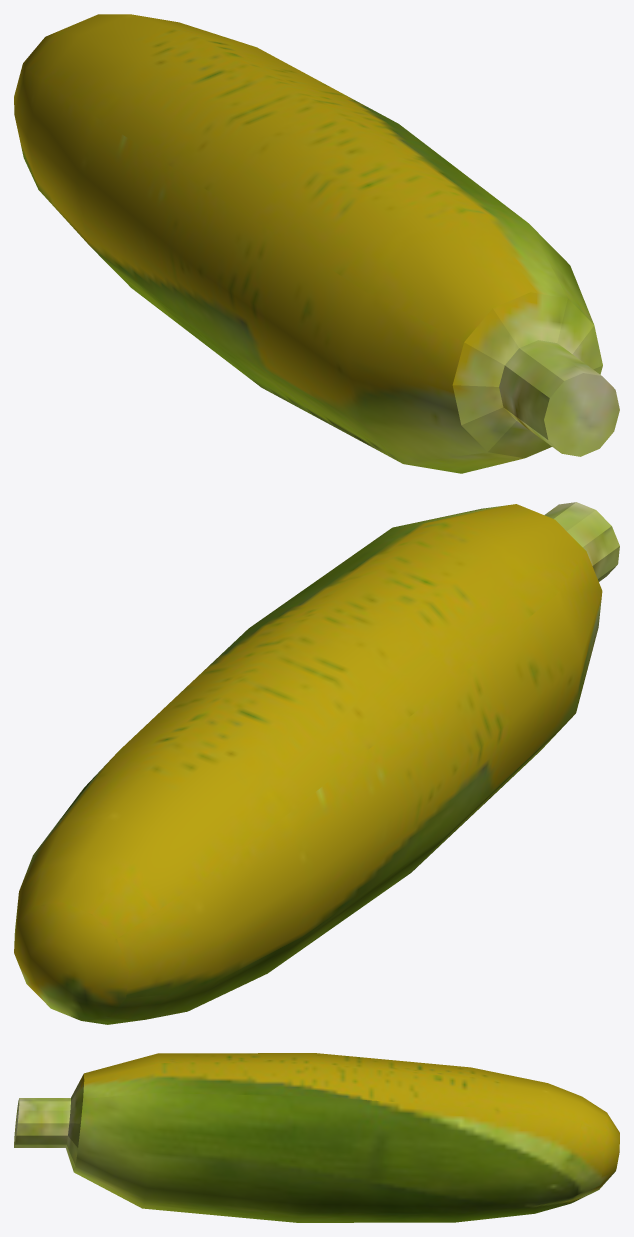
Rendered from SM_配餐室_水果蔬菜_05.fbx.
3 renders of one model, top to bottom at view 1: azimuth 30°, elevation 25°; view 2: azimuth 150°, elevation 25°; view 3: azimuth 270°, elevation 25°, orthographic. The views are drawn at different scales.
Parts seen in each view (by area): view 1: SM_配餐室_水果蔬菜_05; view 2: SM_配餐室_水果蔬菜_05; view 3: SM_配餐室_水果蔬菜_05.
Boxes of the visible parts, left/top/right/bottom form: SM_配餐室_水果蔬菜_05: left=14, top=14, right=619, bottom=473; SM_配餐室_水果蔬菜_05: left=14, top=502, right=619, bottom=1024; SM_配餐室_水果蔬菜_05: left=14, top=1053, right=619, bottom=1222.
Bounding box in the file's own units: 56.73 × 56.73 × 203.
